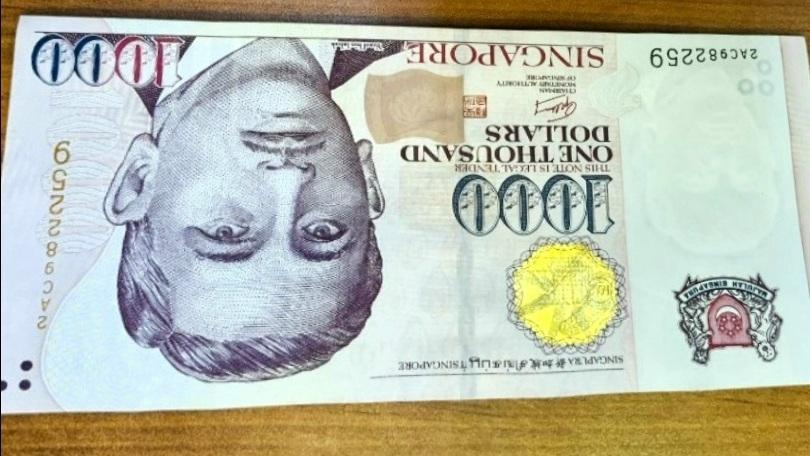1000SingaporeDollar: (3, 31, 810, 390)
